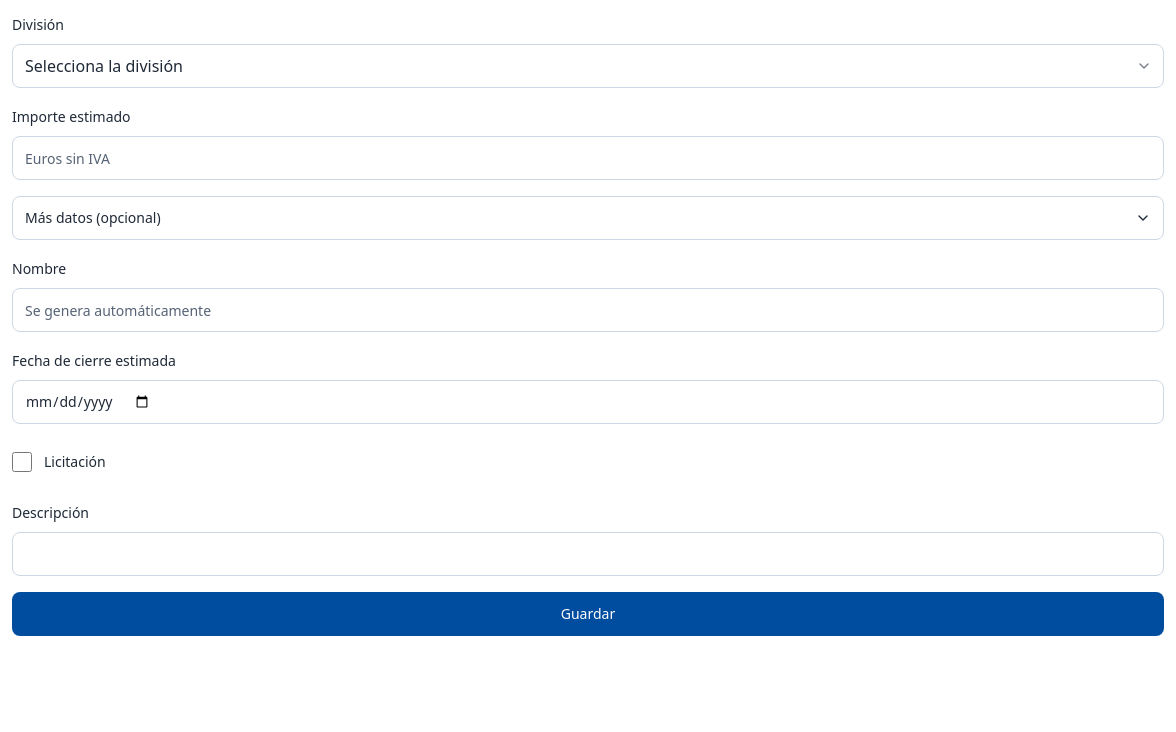
Test case: OpportunityForm › validates required fields in Spanish
Click the button "Guardar".
click(588, 614)  # box [12,592,1164,636]
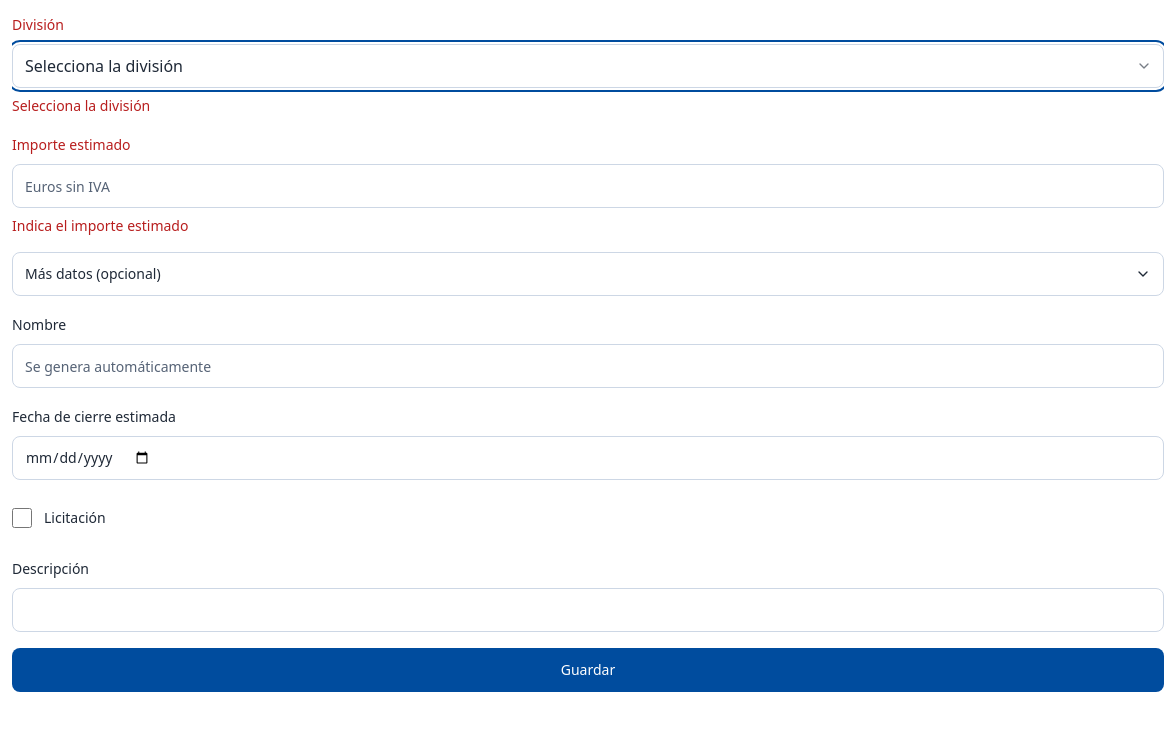
Now the text "Indica el importe estimado" is shown, box [12,216,188,235]
